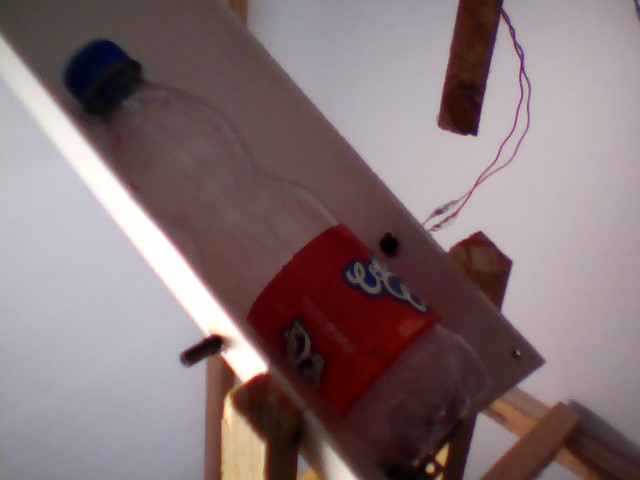plastico: (57, 24, 499, 480)
